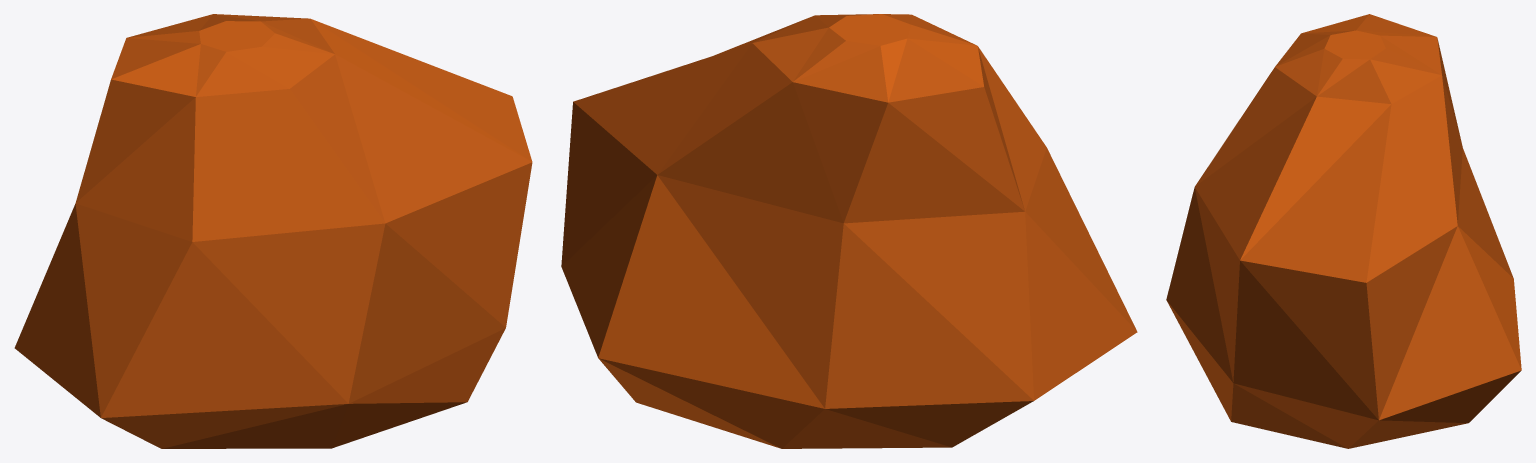
The model's file is N22_Autumn_Cluster.fbx.
3 renders of one model, left to right at view 1: azimuth 30°, elevation 25°; view 2: azimuth 150°, elevation 25°; view 3: azimuth 270°, elevation 25°, orthographic. The views are drawn at different scales.
Visible parts, largest first — view 1: N22_Autumn_Cluster; view 2: N22_Autumn_Cluster; view 3: N22_Autumn_Cluster.
Boxes of the visible parts, bbox=[...] form: N22_Autumn_Cluster: bbox=[14, 14, 532, 448]; N22_Autumn_Cluster: bbox=[561, 14, 1137, 448]; N22_Autumn_Cluster: bbox=[1166, 14, 1521, 448].
Bounding box in the file's own units: 1.5 × 1.05 × 1.1.
1 material, 1 textured.
